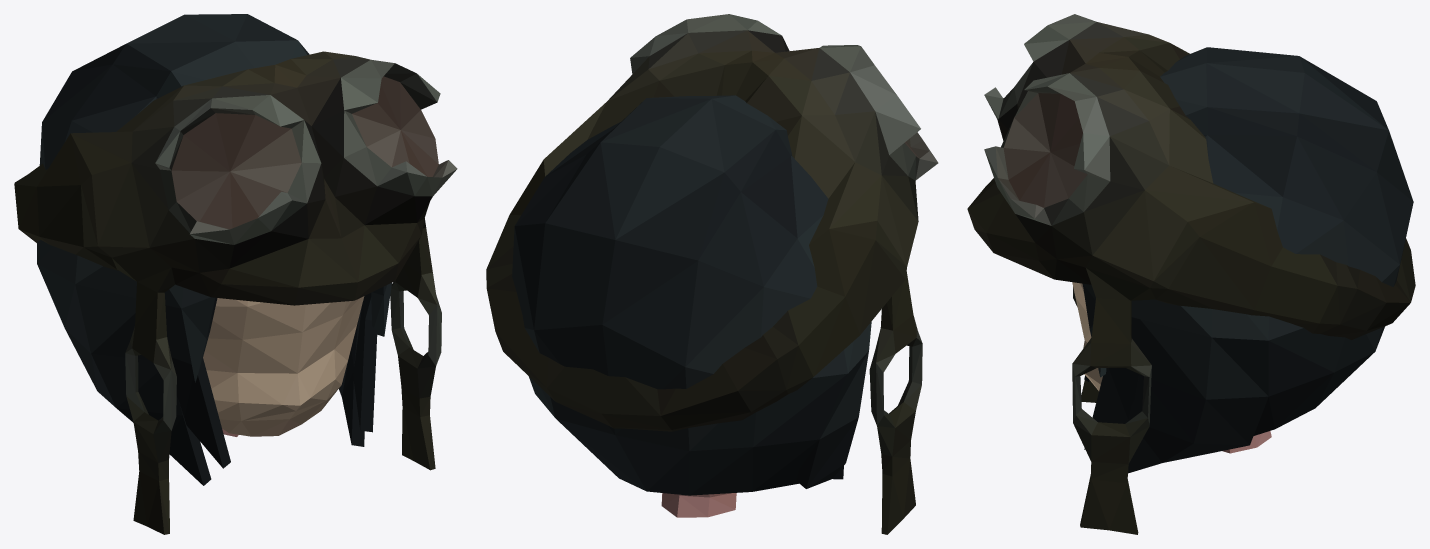
Rendered from helm_lightskin_bob_black_goggles.fbx.
3 views of the same model, side by side, from view 1: azimuth 30°, elevation 25°; view 2: azimuth 150°, elevation 25°; view 3: azimuth 270°, elevation 25° (orthographic). The views are drawn at different scales.
Parts seen in each view (by area): view 1: helm_lightskin_bob_black_goggles; view 2: helm_lightskin_bob_black_goggles; view 3: helm_lightskin_bob_black_goggles.
Part boxes in pixels (x1=…): helm_lightskin_bob_black_goggles: x1=14, y1=14, x2=457, y2=534; helm_lightskin_bob_black_goggles: x1=486, y1=14, x2=938, y2=534; helm_lightskin_bob_black_goggles: x1=967, y1=14, x2=1415, y2=534.
Bounding box in the file's own units: 1.22 × 1.45 × 1.42.
